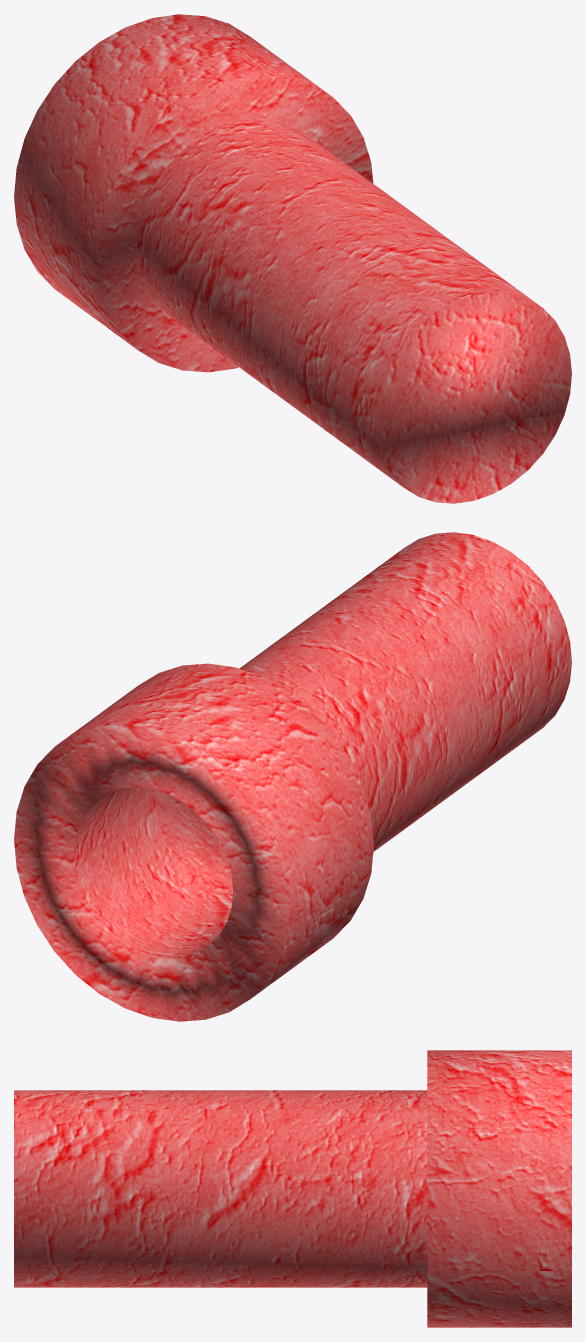
File: vrc_standpipe.obj
3 views of the same model, one above another, from view 1: azimuth 30°, elevation 25°; view 2: azimuth 150°, elevation 25°; view 3: azimuth 270°, elevation 25° (orthographic). The views are drawn at different scales.
Bounding box in the file's own units: 0.1935 × 0.1935 × 0.3888.
